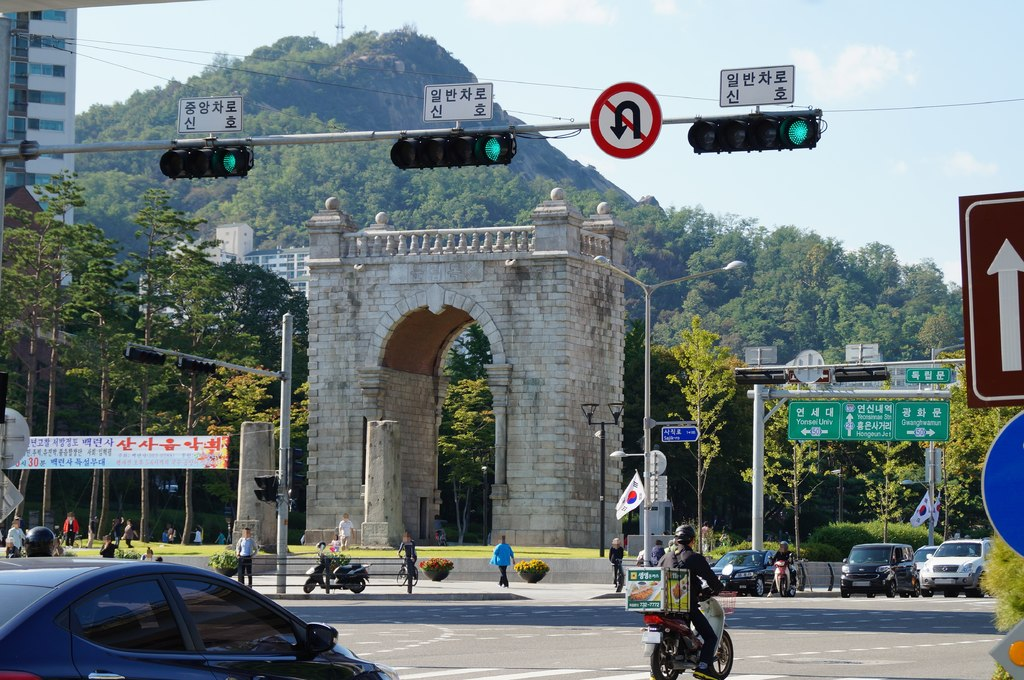green_light: (695, 120, 814, 148), (398, 139, 508, 166), (164, 145, 246, 174)
